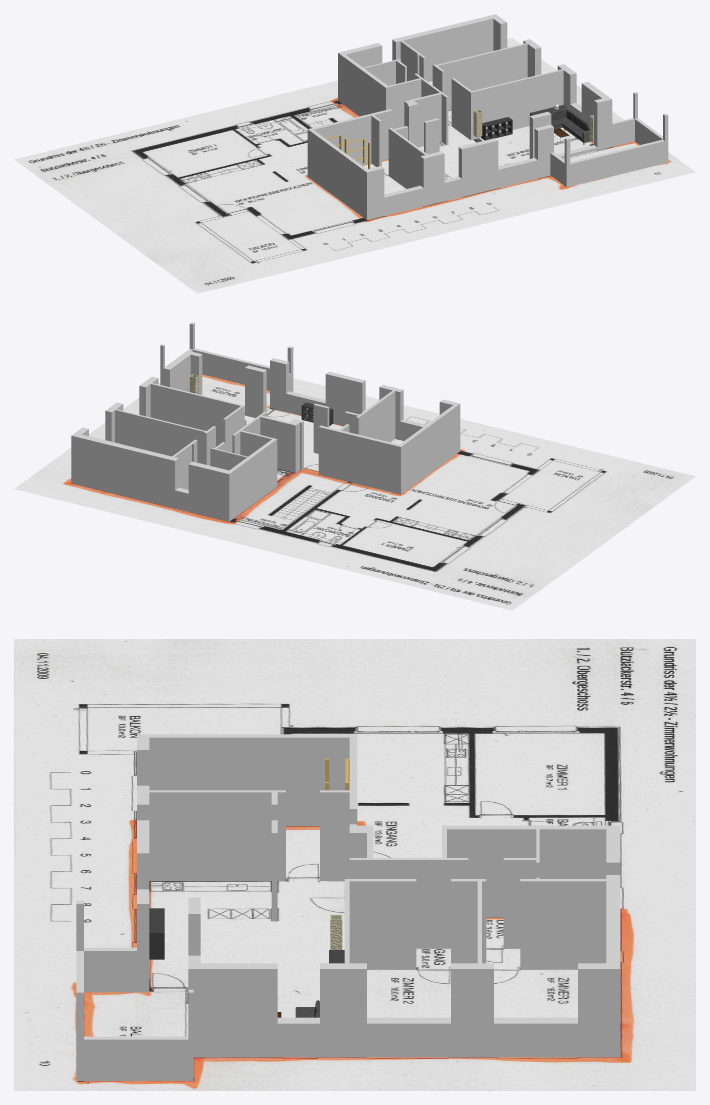
Rendered from WohnungVC.dae.
3 views of the same model, one above another, from view 1: azimuth 30°, elevation 25°; view 2: azimuth 150°, elevation 25°; view 3: azimuth 270°, elevation 25° (orthographic). The views are drawn at different scales.
Parts seen in each view (by area): view 1: GrundrissBütziackker, Wände, Kallex; view 2: GrundrissBütziackker, Wände; view 3: GrundrissBütziackker, Wände, Kallex.001.
Part boxes in pixels (x1=…): GrundrissBütziackker: x1=14, y1=38, x2=695, y2=293; Wände: x1=307, y1=14, x2=668, y2=219; Kallex: x1=481, y1=117, x2=512, y2=140; GrundrissBütziackker: x1=14, y1=374, x2=695, y2=610; Wände: x1=71, y1=322, x2=460, y2=521; GrundrissBütziackker: x1=14, y1=639, x2=695, y2=1090; Wände: x1=76, y1=734, x2=620, y2=1080; Kallex.001: x1=149, y1=908, x2=164, y2=959.
Bounding box in the file's own units: 54.61 × 34.82 × 5.
